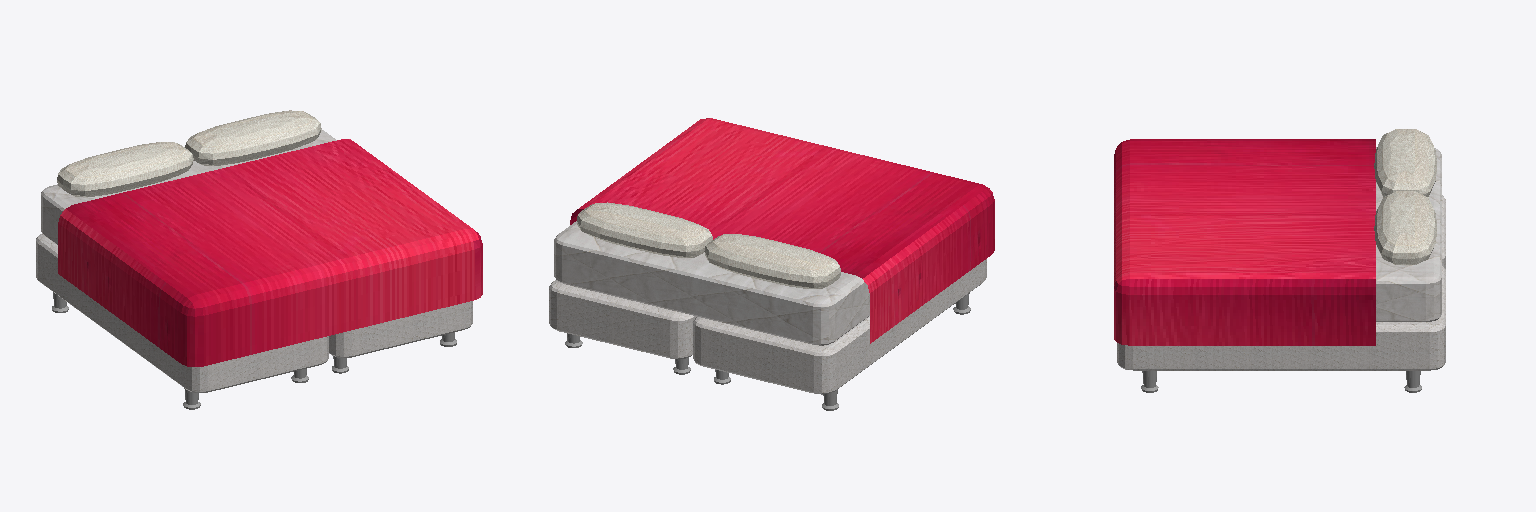
3 renders of one model, left to right at view 1: azimuth 30°, elevation 25°; view 2: azimuth 150°, elevation 25°; view 3: azimuth 270°, elevation 25°, orthographic.
Parts seen in each view (by area): view 1: Plane_Plane.001, base_2_base_1, Sphere_Sphere.001, Sphere.001, base_1, Colchon; view 2: Plane_Plane.001, Colchon, base_2_base_1, base_1, Sphere_Sphere.001, Sphere.001; view 3: Plane_Plane.001, base_1, Colchon, Sphere.001, Sphere_Sphere.001.
Boxes of the visible parts, box(x1,y1,x2,y2) form: Plane_Plane.001: box(58, 139, 482, 366); base_2_base_1: box(36, 233, 328, 392); Sphere_Sphere.001: box(57, 142, 193, 196); Sphere.001: box(185, 110, 321, 165); base_1: box(329, 301, 472, 357); Colchon: box(41, 129, 336, 244); Plane_Plane.001: box(570, 118, 994, 343); Colchon: box(554, 221, 869, 345); base_2_base_1: box(693, 259, 986, 394); base_1: box(549, 280, 696, 358); Sphere_Sphere.001: box(704, 234, 840, 288); Sphere.001: box(577, 202, 712, 257); Plane_Plane.001: box(1114, 139, 1375, 345); base_1: box(1117, 266, 1445, 370); Colchon: box(1376, 147, 1441, 321); Sphere.001: box(1374, 191, 1436, 264); Sphere_Sphere.001: box(1374, 129, 1436, 196).
Bounding box in the file's own units: 2.1 × 0.9545 × 2.02.
Materials: 4 (3 with a texture image).